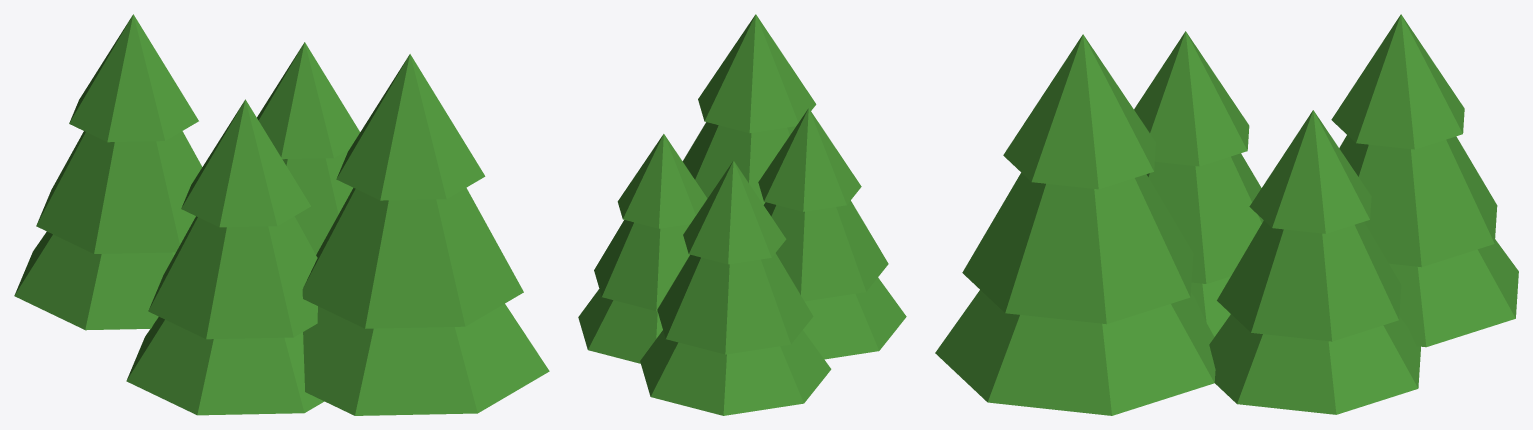
The model's file is tree.glb.
The picture shows the model from 3 angles, left to right: view 1: azimuth 30°, elevation 25°; view 2: azimuth 150°, elevation 25°; view 3: azimuth 270°, elevation 25°; orthographic projection. The views are drawn at different scales.
Parts seen in each view (by area): view 1: 2 Tree, 1 Tree, 3 Tree, 4; view 2: 3 Tree, 1 Tree, 4, 2 Tree; view 3: 2 Tree, 4, 3 Tree, 1 Tree.
Part boxes in pixels (x1,y1,x2,y2): 2 Tree: [302, 54, 549, 415]; 1 Tree: [126, 99, 324, 415]; 3 Tree: [14, 14, 202, 330]; 4: [257, 42, 360, 254]; 3 Tree: [640, 160, 831, 415]; 1 Tree: [758, 108, 906, 359]; 4: [578, 134, 707, 363]; 2 Tree: [682, 14, 816, 204]; 2 Tree: [935, 34, 1215, 415]; 4: [1209, 110, 1420, 414]; 3 Tree: [1331, 14, 1518, 347]; 1 Tree: [1134, 31, 1263, 336].
Bounding box in the file's own units: 5.21 × 4.59 × 7.25.
